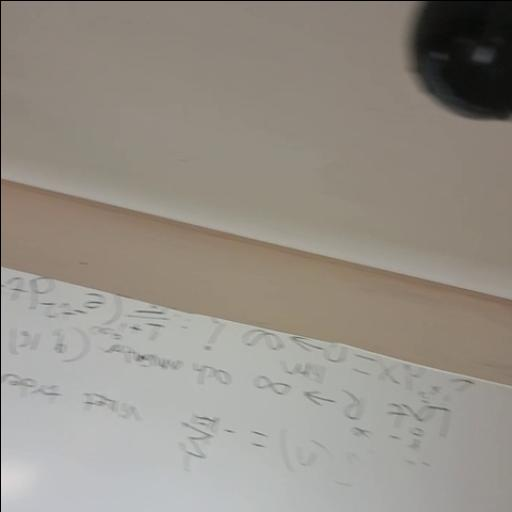dead: (412, 0, 512, 123)
